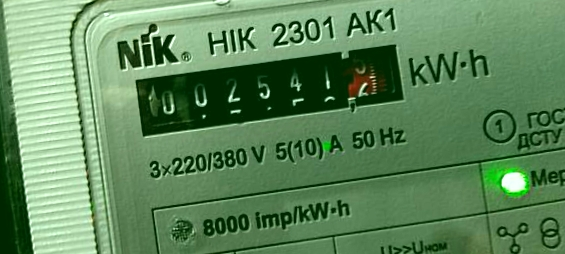0: (188, 76, 211, 111), (158, 86, 179, 117)
1: (315, 58, 335, 93)
2: (219, 71, 244, 108)
4: (284, 63, 305, 96)
5: (253, 70, 273, 103)
6: (353, 78, 371, 100)
screen: (118, 27, 427, 153)
